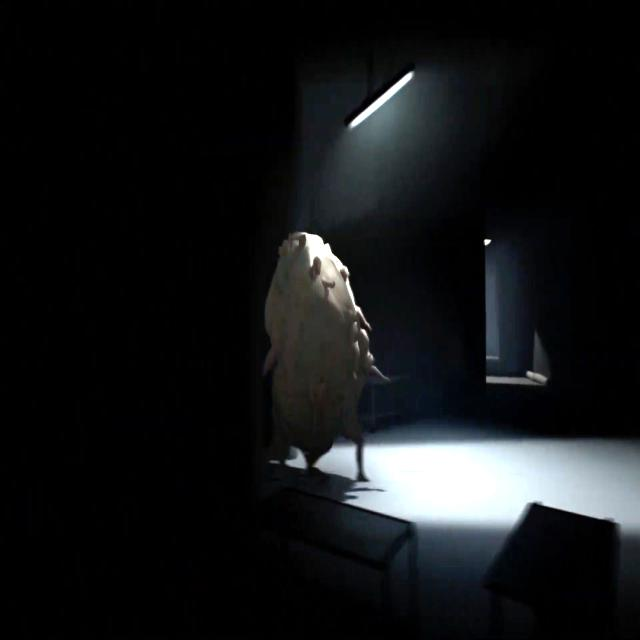blob: (264, 234, 392, 481)
